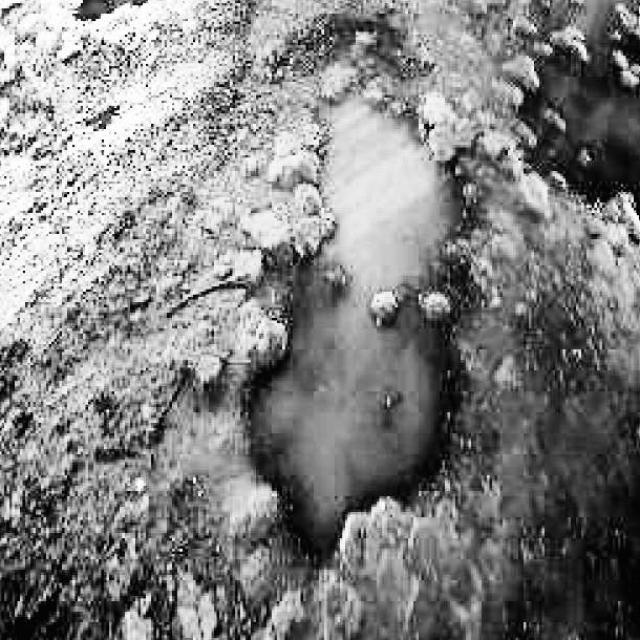Pothole: (222, 8, 489, 574), (482, 0, 640, 259), (46, 0, 193, 31)
